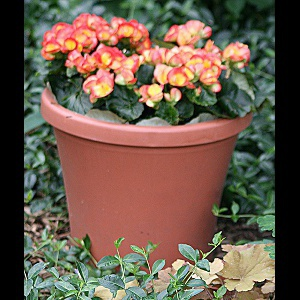flowerpot: (40, 76, 251, 274)
